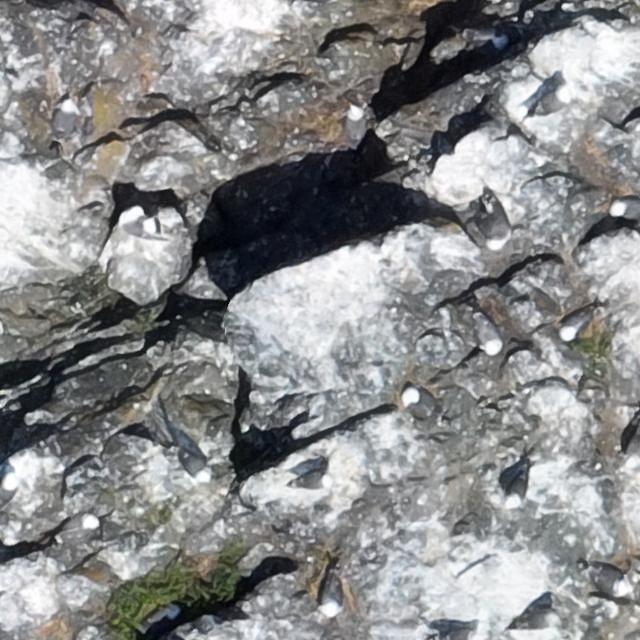umineko: (120, 206, 169, 249), (481, 197, 515, 250), (49, 512, 102, 545), (585, 567, 633, 596), (179, 445, 211, 485), (562, 311, 592, 339), (405, 389, 435, 416), (534, 91, 568, 114), (344, 108, 364, 143), (626, 423, 640, 472), (479, 321, 499, 353), (508, 472, 527, 505), (322, 580, 340, 614), (293, 472, 327, 489), (612, 198, 640, 217), (150, 606, 178, 623)
